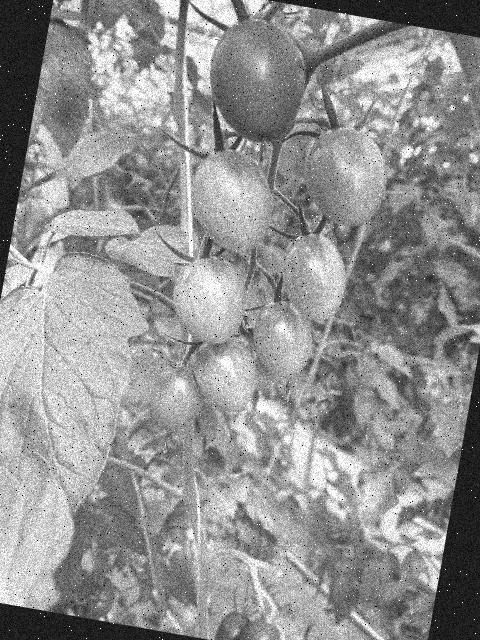l_fully_ripened: (198, 10, 315, 150), (238, 613, 285, 640), (214, 608, 252, 640)
l_green: (181, 142, 281, 256), (295, 119, 394, 231), (164, 249, 253, 348), (272, 226, 352, 323), (185, 329, 264, 415), (244, 295, 318, 382), (142, 357, 210, 436), (227, 330, 280, 393)
